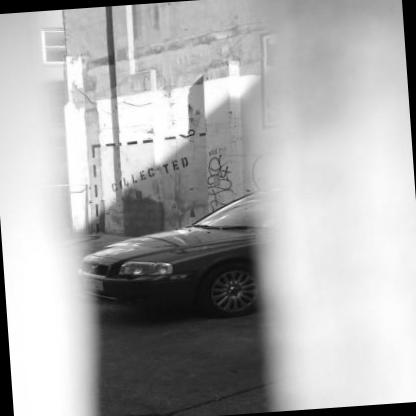car: (65, 167, 389, 351)
